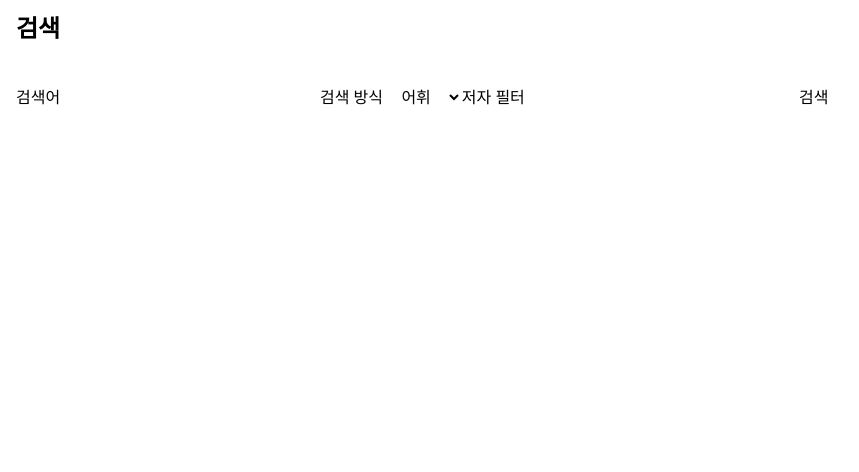
Test: U3 discovery surface › keeps previous results when invalid input is submitted
Type "attention" into the field with test id "search-query" at [190, 98], box [60,66,320,129]
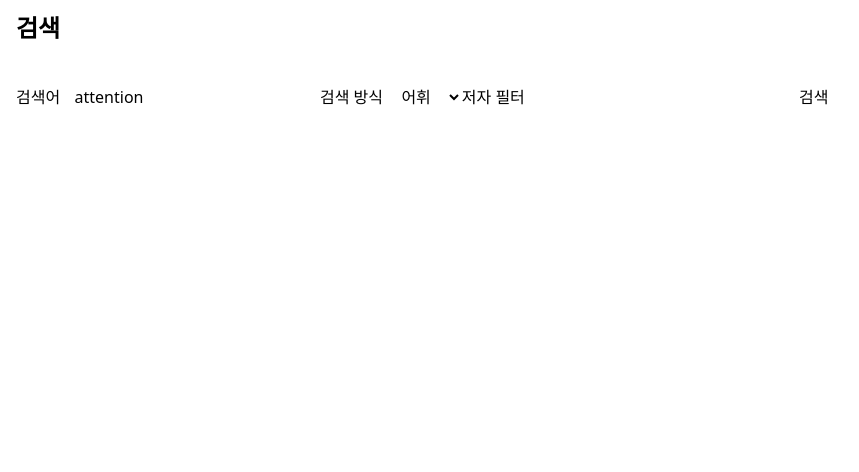
Click the button with test id "search-submit" at [814, 98], box [785,76,843,120]
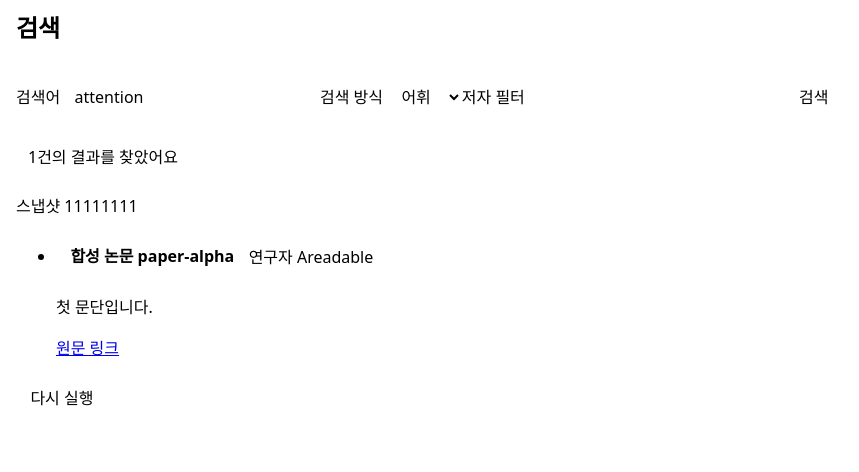
Check: the list item with test id "result-row" is shown, box [56,235,373,359]
Clear the field with test id "search-query" at [190, 98], box [60,66,320,129]
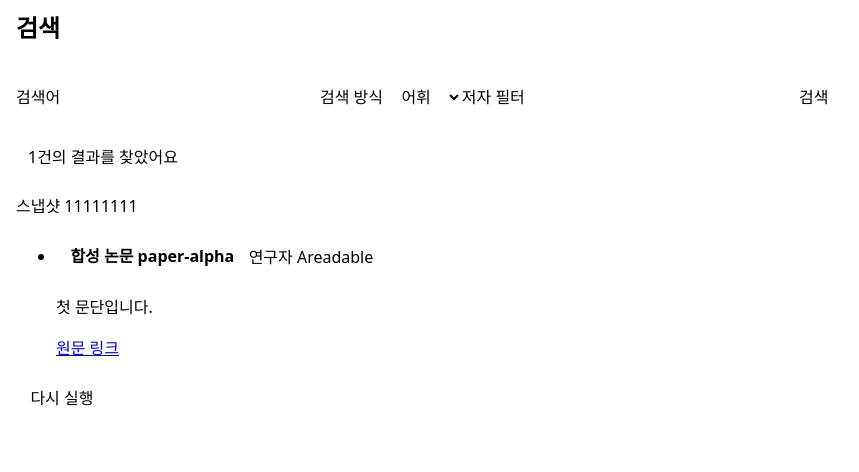
Click the button with test id "search-submit" at [814, 98], box [785,76,843,120]
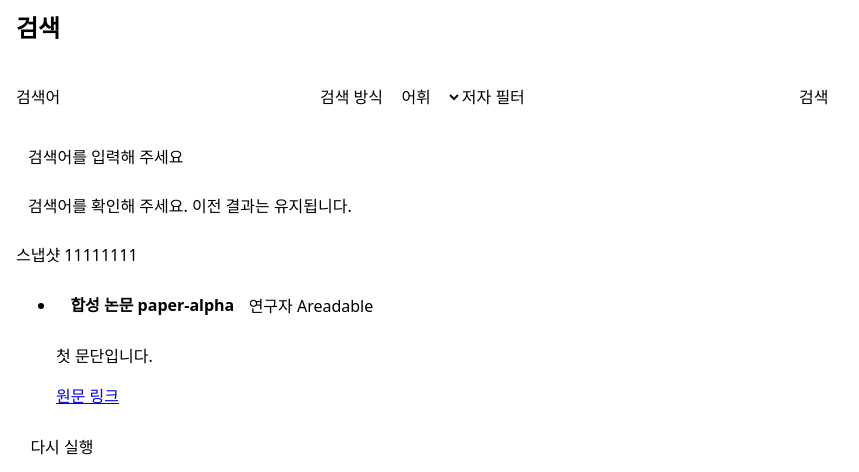
Check: the list item with test id "result-row" is shown, box [56,284,373,407]
Check: the text "검색어를 입력해 주세요" is shown, box [28,146,184,168]
